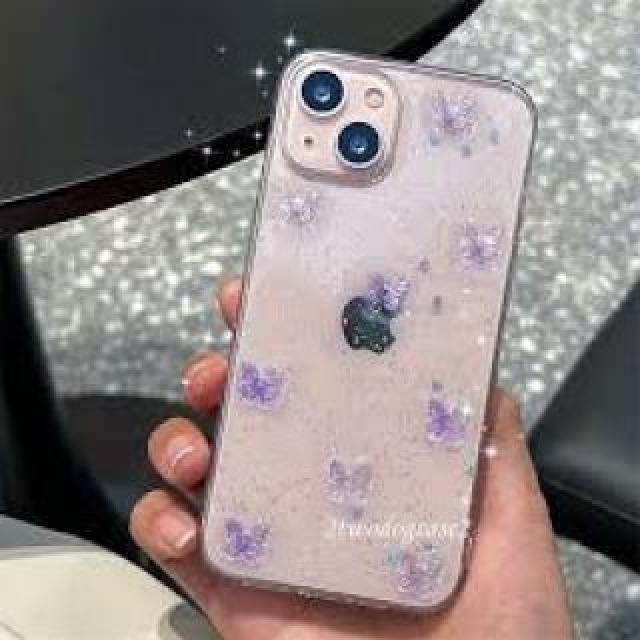smart phone: (248, 20, 550, 640)
